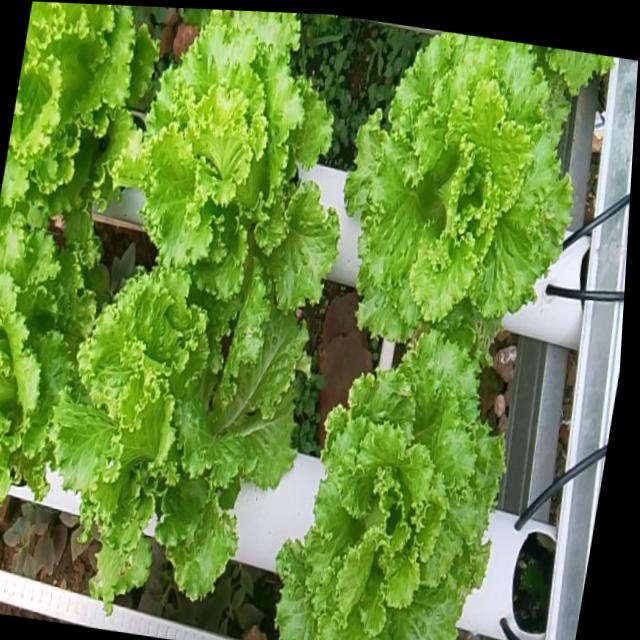Mature: (55, 253, 309, 598), (276, 326, 507, 640), (346, 31, 574, 339), (113, 9, 341, 308)
